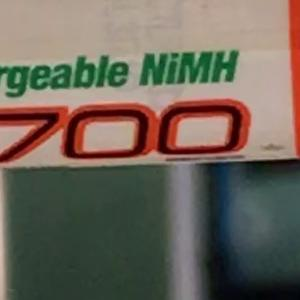keyword: (130, 41, 248, 95)
